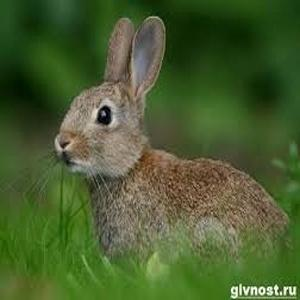rabbit: (54, 17, 293, 261)
